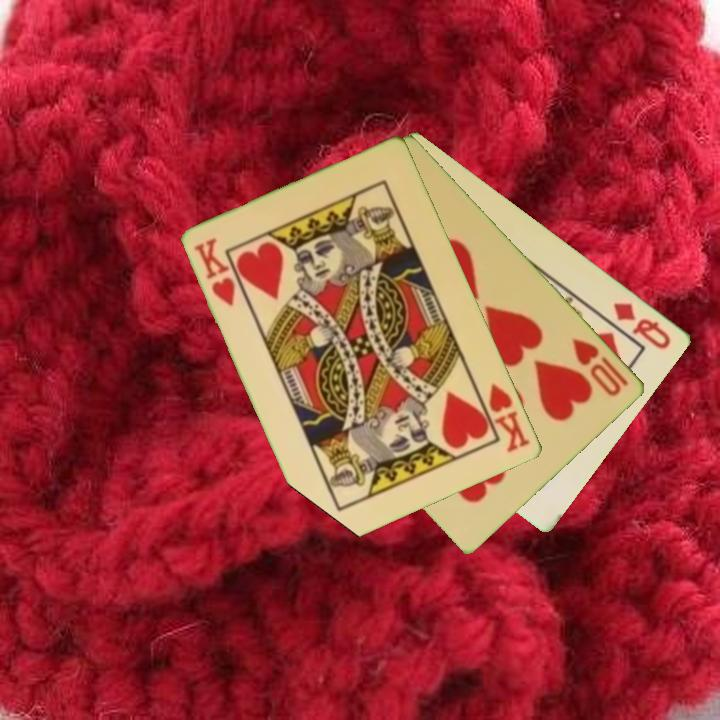10h: (569, 335, 632, 400)
Kh: (473, 379, 534, 456), (191, 234, 239, 310)
Qd: (610, 298, 675, 352)
